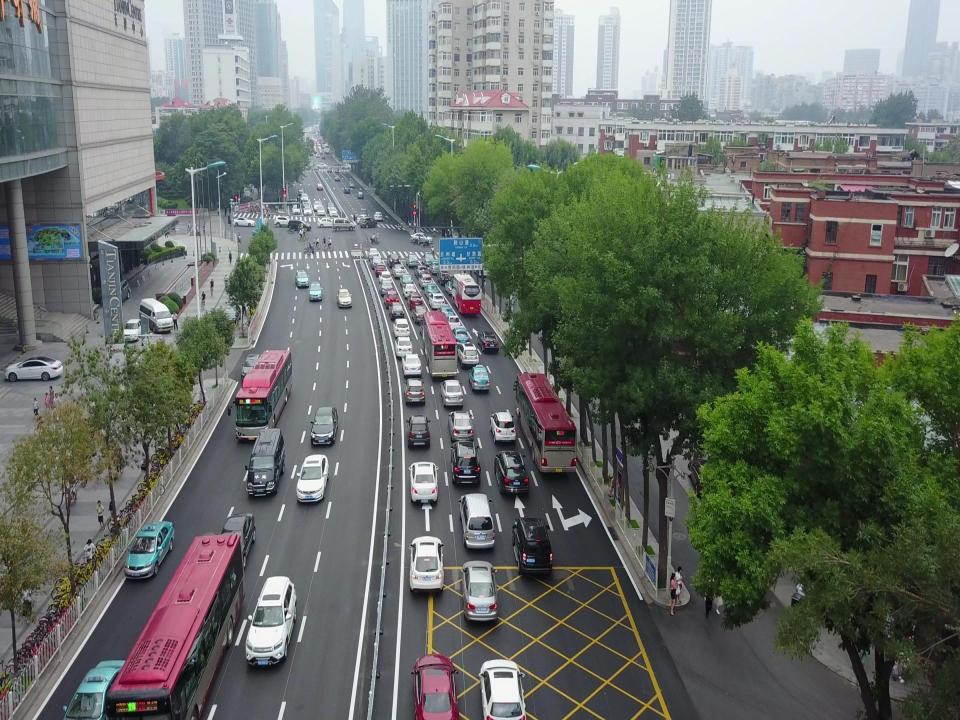bus: (103, 534, 246, 720), (513, 372, 578, 477), (226, 349, 294, 442), (422, 310, 458, 378), (450, 272, 481, 314)
car: (245, 574, 297, 668), (59, 658, 128, 720), (410, 652, 460, 720), (122, 521, 176, 580), (478, 658, 529, 720), (460, 558, 500, 624), (216, 512, 257, 574), (512, 515, 553, 576), (408, 535, 446, 593), (494, 448, 530, 497), (295, 454, 329, 503), (3, 354, 63, 380), (449, 439, 481, 487), (408, 460, 438, 504), (310, 404, 338, 446), (688, 457, 716, 499), (447, 409, 475, 443), (406, 413, 431, 450), (490, 410, 516, 444), (440, 377, 464, 409), (403, 376, 426, 407), (240, 353, 264, 382), (121, 318, 147, 343), (468, 364, 490, 392), (109, 277, 131, 305), (220, 300, 241, 327), (457, 343, 479, 367), (477, 330, 499, 354), (401, 353, 422, 378), (394, 335, 414, 358), (451, 325, 470, 348), (392, 317, 410, 338), (412, 305, 430, 324), (336, 288, 352, 308), (384, 289, 400, 309), (409, 231, 433, 244), (428, 292, 445, 310), (388, 301, 404, 320), (294, 270, 310, 288), (439, 303, 455, 321), (424, 282, 440, 300), (378, 280, 394, 298), (407, 292, 423, 310), (309, 281, 323, 301), (447, 314, 461, 334), (232, 217, 256, 227), (274, 216, 294, 228), (444, 279, 458, 296), (418, 274, 432, 290), (414, 264, 430, 278), (403, 283, 417, 299), (429, 260, 443, 276), (406, 253, 420, 268), (379, 270, 393, 285), (374, 262, 388, 277), (400, 272, 414, 287), (392, 263, 406, 278), (316, 217, 336, 227), (359, 217, 377, 228), (370, 255, 384, 269), (437, 270, 451, 284), (422, 252, 436, 266), (387, 253, 400, 268), (32, 397, 40, 420), (367, 247, 379, 261), (252, 228, 267, 238), (316, 205, 326, 216), (357, 215, 370, 223), (313, 200, 321, 211), (359, 208, 368, 217), (329, 207, 338, 216), (303, 206, 312, 215), (292, 204, 300, 214), (327, 202, 334, 213), (374, 211, 382, 220), (300, 193, 309, 201), (303, 202, 311, 210), (343, 186, 351, 194), (357, 191, 365, 199), (316, 183, 324, 190), (298, 188, 304, 196), (334, 174, 340, 182), (349, 181, 355, 188)
van: (244, 427, 286, 499), (458, 492, 496, 549), (139, 297, 174, 334), (332, 218, 356, 232), (287, 219, 311, 232)
